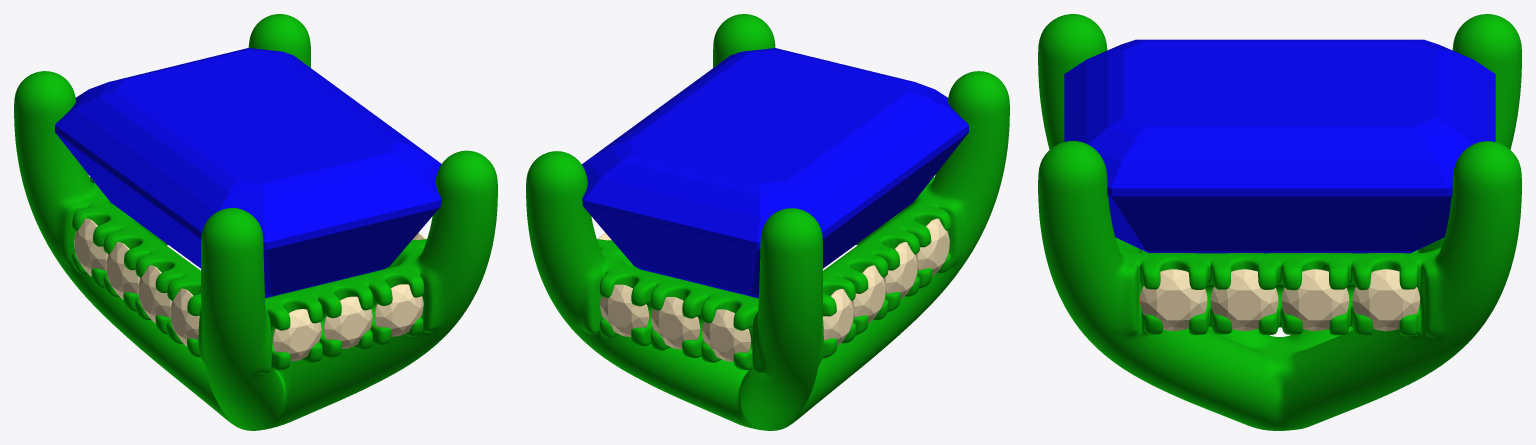
3 views of the same model, side by side, from view 1: azimuth 30°, elevation 25°; view 2: azimuth 150°, elevation 25°; view 3: azimuth 270°, elevation 25° (orthographic). The views are drawn at different scales.
Parts seen in each view (by area): view 1: Metal01, Diamond_Emerald, Diamond_Round.008, Diamond_Round.009, Diamond_Round.010, Diamond_Round.003, Diamond_Round.002, Diamond_Round, Diamond_Round.001; view 2: Metal01, Diamond_Emerald, Diamond_Round.011, Diamond_Round.013, Diamond_Round.012, Diamond_Round.001, Diamond_Round.002, Diamond_Round, Diamond_Round.003; view 3: Diamond_Emerald, Metal01, Diamond_Round.006, Diamond_Round.004, Diamond_Round.007, Diamond_Round.005.
Part boxes in pixels (x1,y1,x2,y2): Metal01: (14, 14, 497, 430); Diamond_Emerald: (55, 48, 441, 297); Diamond_Round.008: (374, 284, 423, 336); Diamond_Round.009: (272, 309, 321, 361); Diamond_Round.010: (323, 296, 372, 348); Diamond_Round.003: (74, 218, 107, 276); Diamond_Round.002: (106, 242, 139, 299); Diamond_Round: (138, 265, 171, 323); Diamond_Round.001: (170, 288, 199, 346); Metal01: (526, 14, 1009, 430); Diamond_Emerald: (582, 48, 968, 298); Diamond_Round.011: (702, 309, 751, 361); Diamond_Round.013: (600, 284, 649, 336); Diamond_Round.012: (651, 297, 700, 349); Diamond_Round.001: (916, 218, 949, 276); Diamond_Round.002: (852, 265, 885, 323); Diamond_Round: (884, 242, 917, 299); Diamond_Round.003: (823, 288, 853, 346); Diamond_Emerald: (1064, 39, 1495, 253); Metal01: (1038, 14, 1521, 430); Diamond_Round.006: (1140, 269, 1207, 331); Diamond_Round.004: (1352, 269, 1419, 331); Diamond_Round.007: (1210, 269, 1278, 331); Diamond_Round.005: (1281, 269, 1349, 331).
Bounding box in the file's own units: 6.55 × 6.66 × 8.58.
